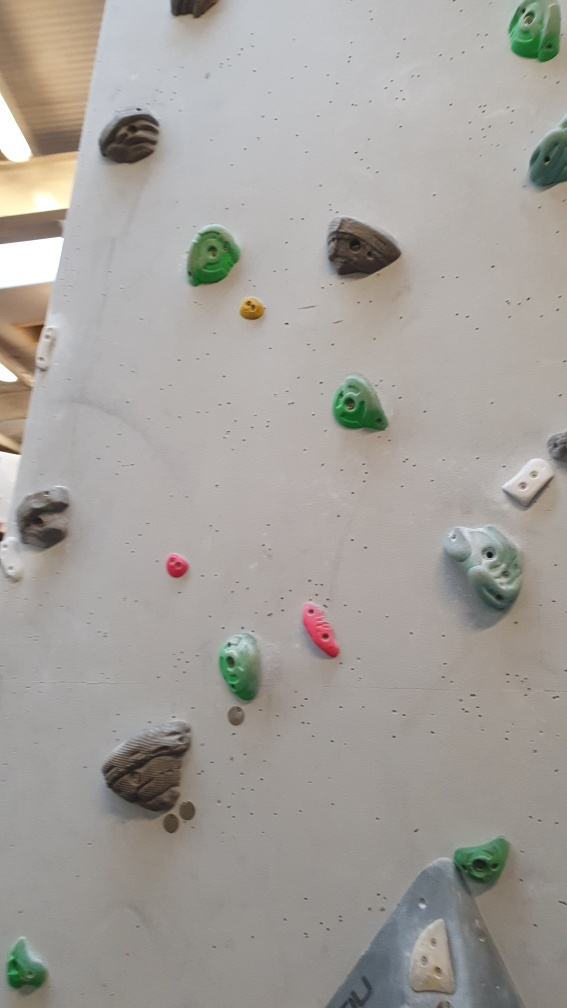Crimp: (505, 454, 555, 506)
Hand Start: (158, 814, 182, 836), (178, 798, 198, 824), (228, 707, 248, 728)
Jug: (439, 520, 533, 614), (102, 719, 195, 809), (323, 215, 405, 281), (178, 218, 246, 292), (98, 101, 166, 170), (330, 372, 396, 435), (11, 486, 73, 551), (212, 627, 266, 701), (504, 1, 563, 67)
